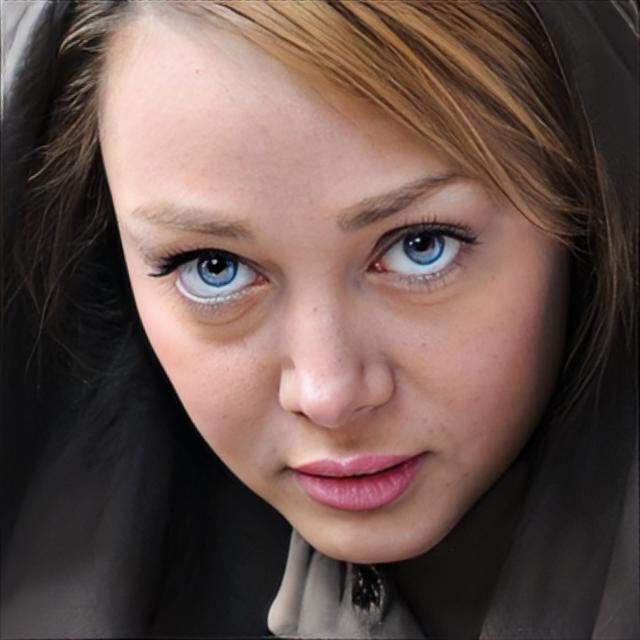content: (91, 0, 574, 566)
